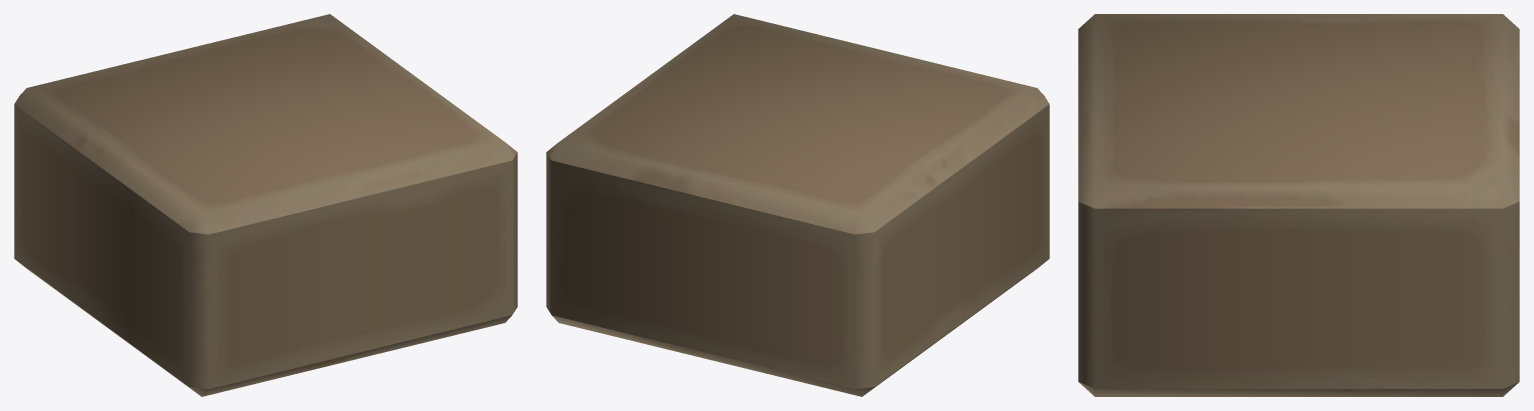
Rendered from SM_brick_building_07.glb.
The picture shows the model from 3 angles, left to right: view 1: azimuth 30°, elevation 25°; view 2: azimuth 150°, elevation 25°; view 3: azimuth 270°, elevation 25°; orthographic projection. The views are drawn at different scales.
Parts seen in each view (by area): view 1: SM_brick_building_07; view 2: SM_brick_building_07; view 3: SM_brick_building_07.
Boxes of the visible parts, left/top/right/bottom form: SM_brick_building_07: left=14, top=14, right=517, bottom=396; SM_brick_building_07: left=546, top=14, right=1049, bottom=396; SM_brick_building_07: left=1078, top=14, right=1519, bottom=396.
Bounding box in the file's own units: 0.95 × 0.5 × 0.95.
Materials: 1 (1 with a texture image).
